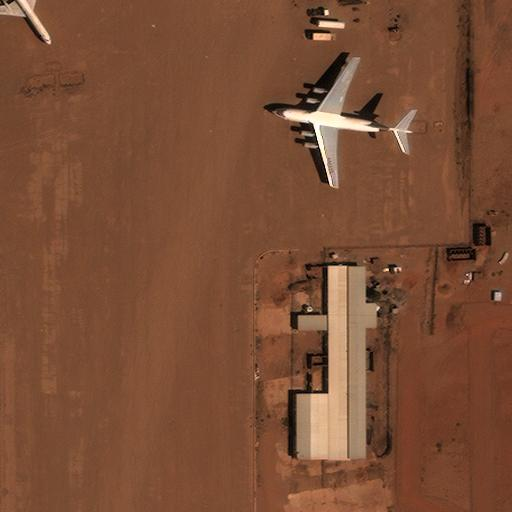Medium Civil Transport: (0, 0, 50, 44)
Military Transport: (271, 57, 413, 185)
